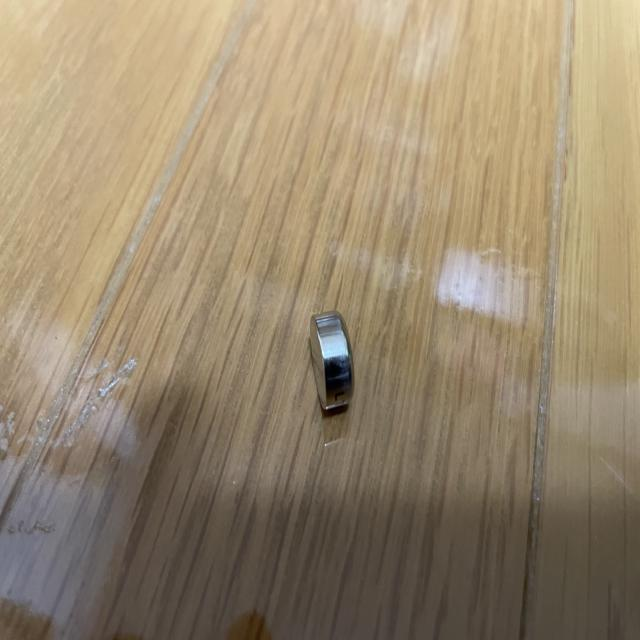COIN: (309, 311, 355, 415)
